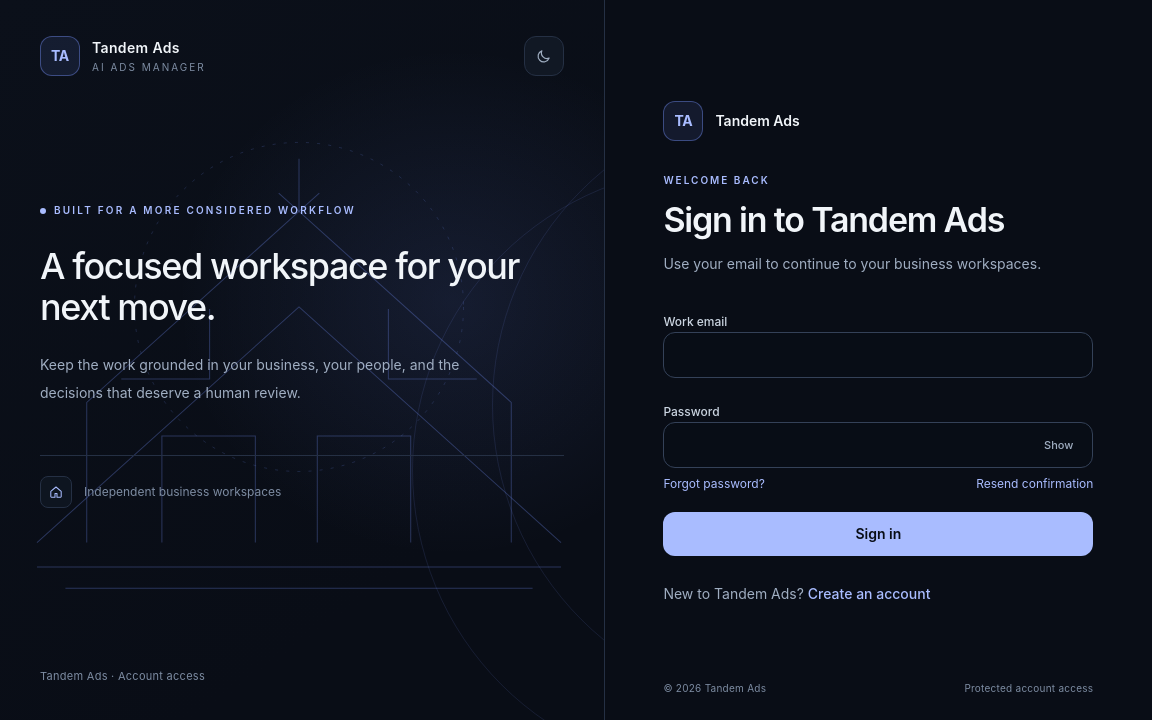
Scenario: authentication routes and forms › shows inline login validation and does not call Supabase for invalid input
This screenshot has width=1152, height=720.
Type "not-an-email" into the field labelled "Work email" at (878, 355), box left=663, top=332, right=1093, bottom=378
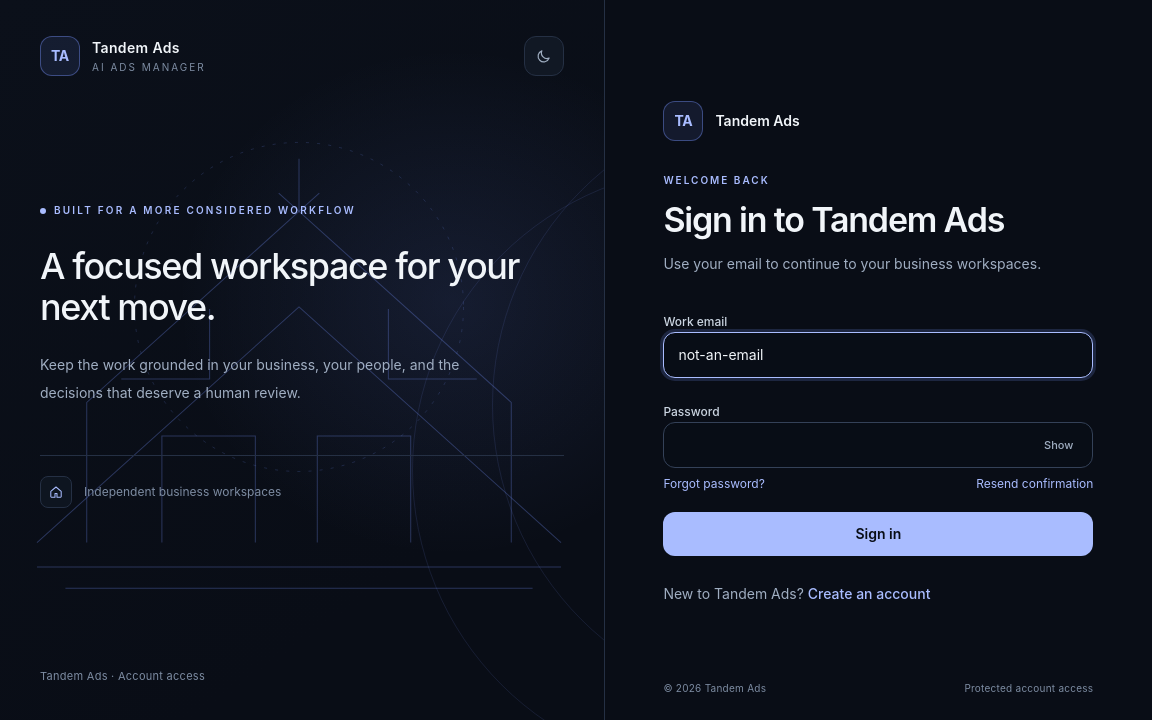
Click the button "Sign in" at (878, 534), box left=663, top=512, right=1093, bottom=556
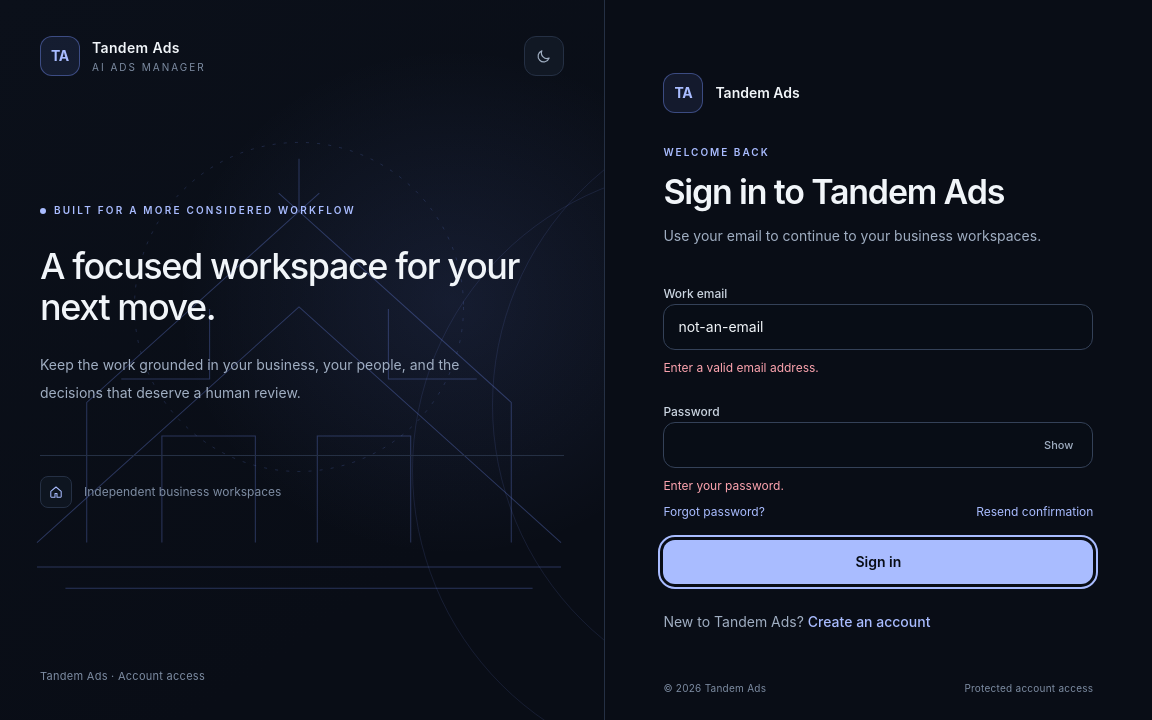
Now the text "Enter a valid email address." is shown, box left=663, top=360, right=819, bottom=375
